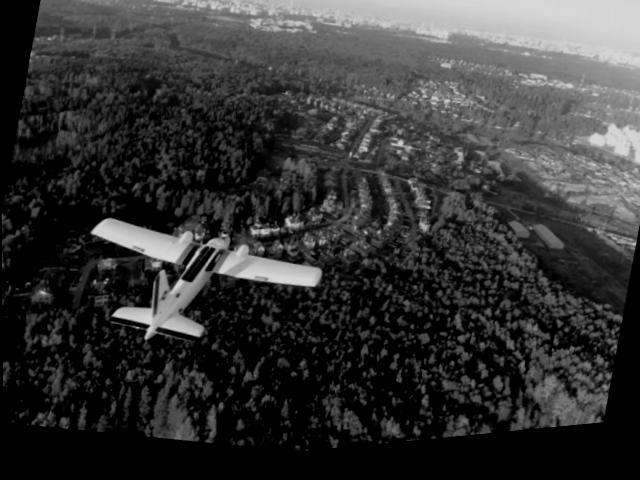hedef: (46, 186, 336, 386)
